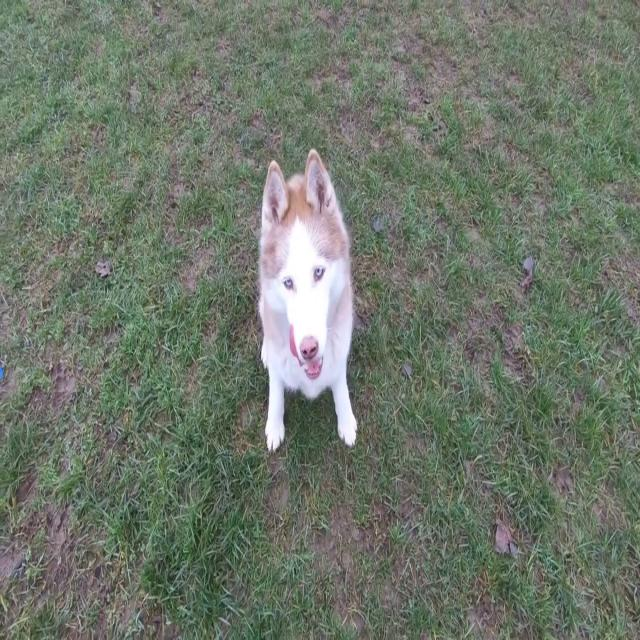Dog: (258, 148, 358, 453)
